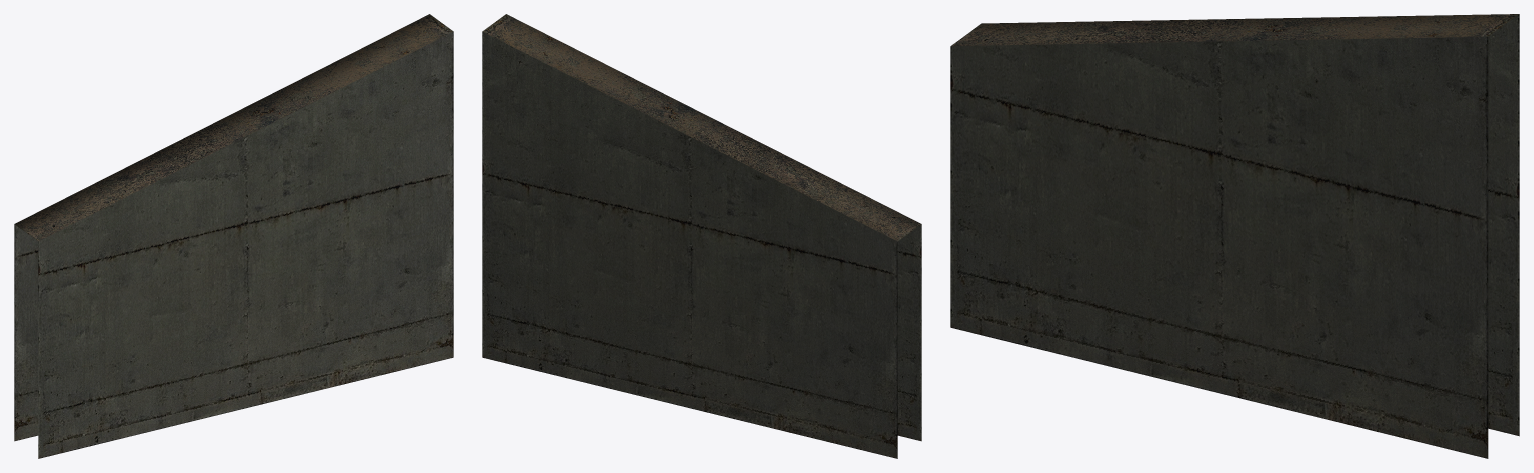
File: wall_top_part_rg_3.glb
The picture shows the model from 3 angles, left to right: view 1: azimuth 30°, elevation 25°; view 2: azimuth 150°, elevation 25°; view 3: azimuth 330°, elevation 25°; orthographic projection. The views are drawn at different scales.
Visible parts, largest first — view 1: wall_top_part_rg_3; view 2: wall_top_part_rg_3; view 3: wall_top_part_rg_3.
Part boxes in pixels (box(x1,y1,x2,y2)): wall_top_part_rg_3: box(14, 14, 453, 458); wall_top_part_rg_3: box(482, 14, 921, 458); wall_top_part_rg_3: box(950, 14, 1519, 458).
Size of the model in its own units: 4 by 3 by 0.4.
2 materials, 2 textured.
